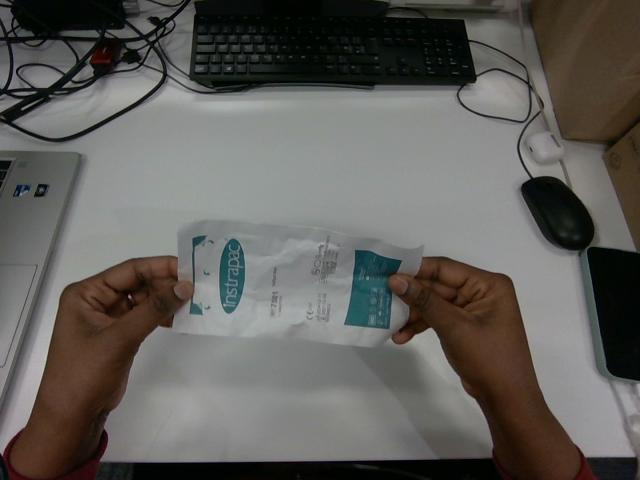gallipot: (173, 220, 422, 346)
